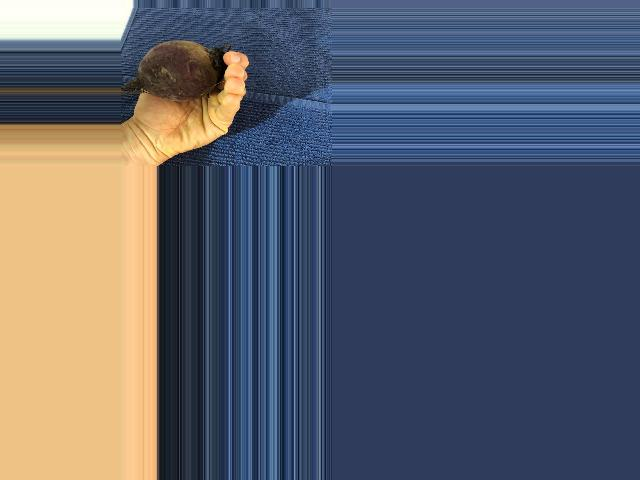beet: (121, 41, 232, 102)
